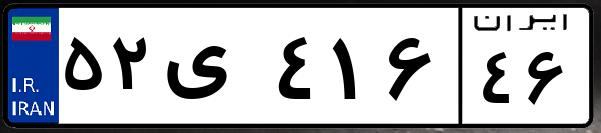1: (330, 28, 385, 110)
2: (110, 28, 158, 98)
4: (270, 28, 330, 110), (475, 38, 525, 113)
5: (57, 26, 110, 100)
6: (385, 28, 445, 110), (525, 38, 570, 115)
ی: (158, 20, 270, 120)
